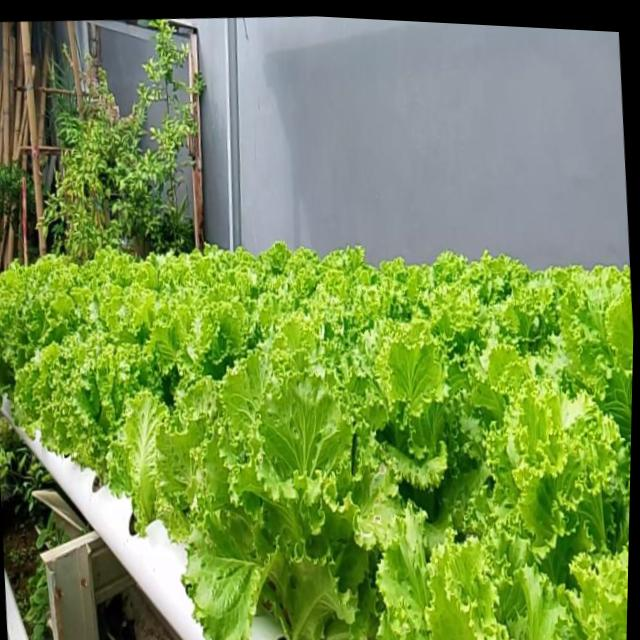Mature: (0, 228, 633, 640), (167, 342, 361, 638), (0, 276, 140, 489)
